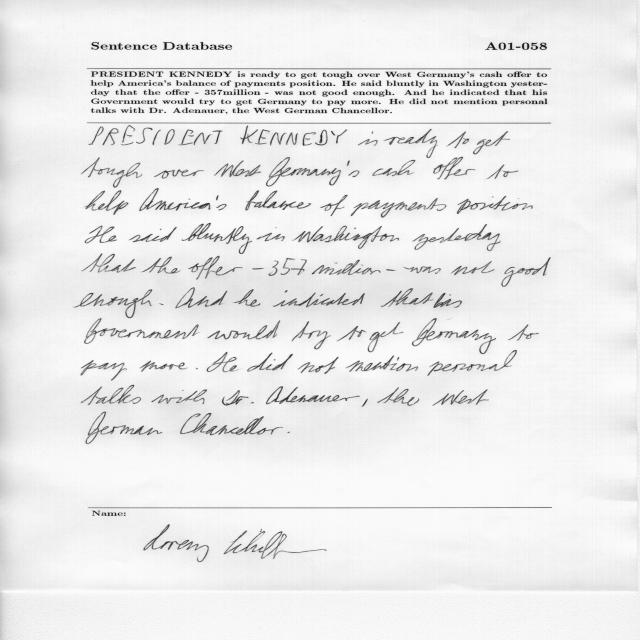word: (412, 319, 496, 355), (85, 318, 199, 344), (266, 157, 359, 187), (89, 126, 223, 146), (292, 226, 399, 249), (86, 412, 162, 444), (413, 224, 500, 251), (427, 350, 517, 376), (180, 413, 283, 435), (74, 289, 152, 318), (241, 125, 348, 146), (182, 223, 252, 254), (268, 258, 381, 276), (139, 189, 227, 211), (351, 198, 446, 218), (82, 157, 142, 188), (266, 387, 360, 405), (273, 291, 365, 308), (384, 129, 437, 158), (501, 257, 551, 287), (457, 196, 533, 214), (208, 321, 280, 340), (245, 191, 311, 211), (188, 256, 243, 280), (346, 355, 418, 372), (82, 385, 142, 405), (291, 321, 331, 350), (368, 322, 404, 352), (85, 190, 128, 215), (175, 288, 227, 308), (82, 254, 136, 273), (381, 288, 433, 307), (432, 389, 489, 406), (433, 157, 475, 180), (81, 360, 127, 381), (247, 353, 293, 372), (473, 131, 510, 154), (151, 389, 207, 404), (214, 160, 261, 177), (378, 387, 420, 406), (129, 227, 177, 242), (298, 357, 339, 374), (373, 160, 416, 176), (141, 257, 181, 274), (207, 352, 239, 372), (451, 261, 495, 275), (320, 195, 348, 216), (85, 226, 117, 244), (140, 361, 188, 372), (508, 324, 539, 341), (222, 390, 254, 406), (234, 289, 261, 307), (487, 165, 518, 180), (154, 170, 204, 179), (337, 326, 367, 341), (433, 293, 462, 308), (257, 228, 285, 242), (447, 132, 469, 148), (358, 131, 378, 146), (404, 266, 441, 274), (362, 398, 368, 407), (386, 269, 396, 271), (252, 268, 264, 269), (159, 303, 163, 305), (287, 432, 290, 433), (196, 368, 198, 369)
